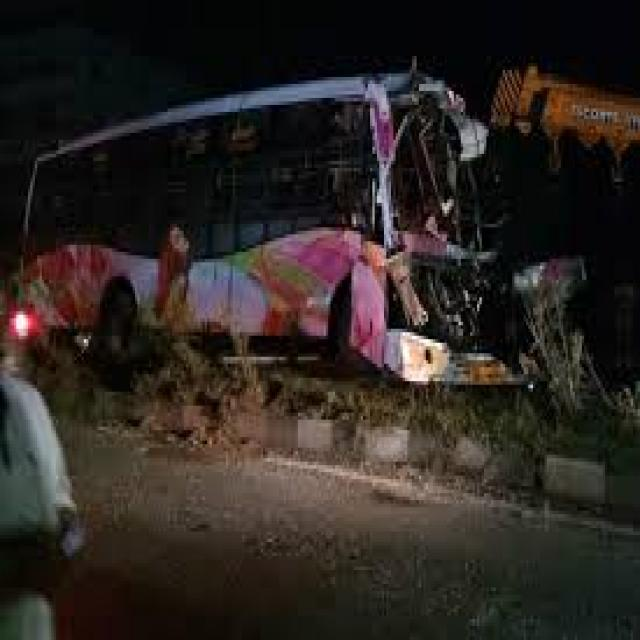accident: (16, 79, 595, 420)
